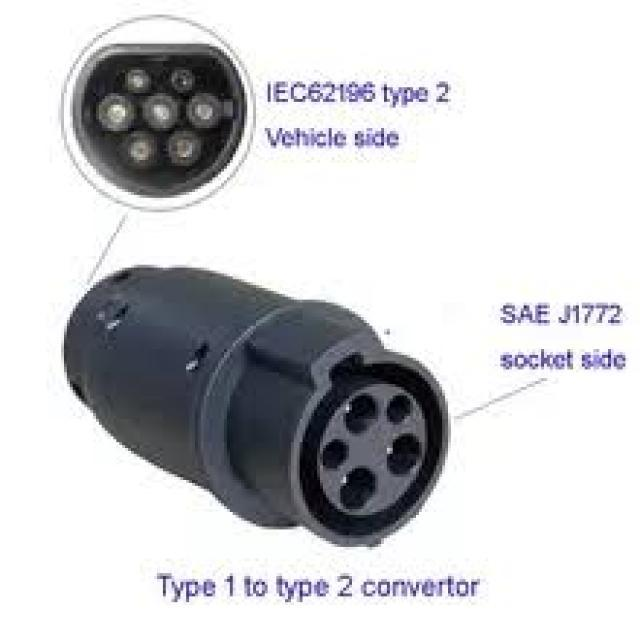Type 2: (52, 9, 267, 210)
